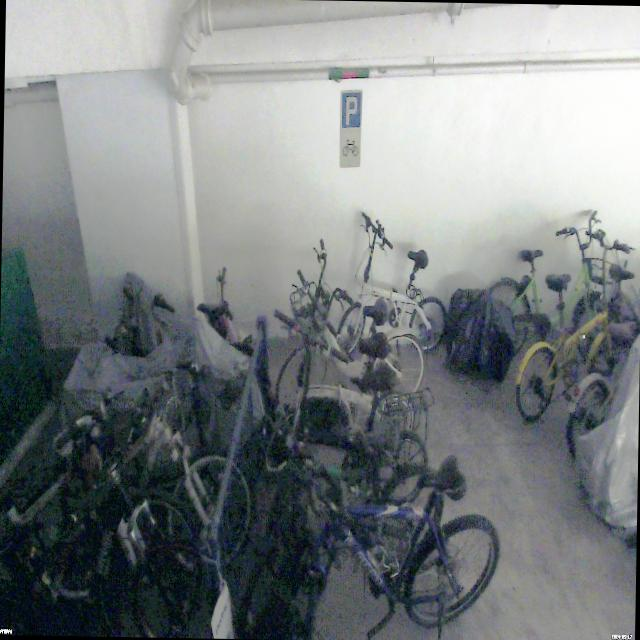bike: (274, 235, 426, 416), (263, 306, 418, 470), (515, 227, 640, 419), (484, 208, 605, 362), (335, 212, 447, 356)
